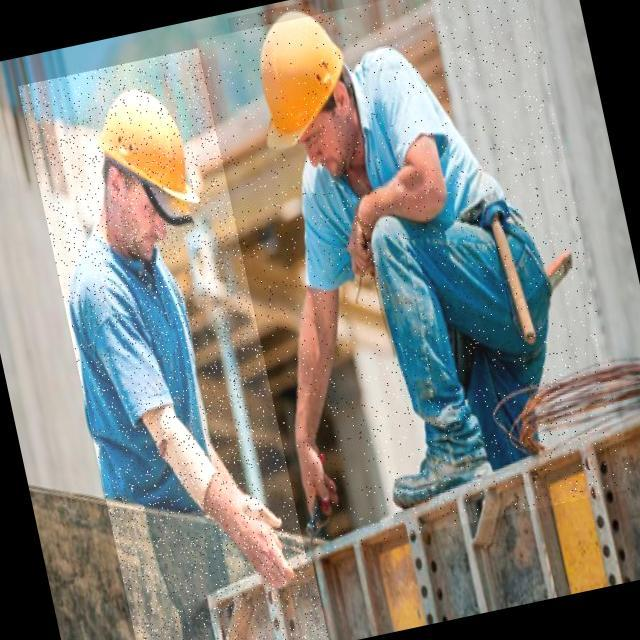Helmet: (78, 67, 225, 228), (247, 0, 371, 161)
Person: (234, 0, 594, 525), (61, 47, 305, 596)
Safety Boot: (369, 396, 504, 522)
bare-arms: (216, 481, 296, 595), (292, 438, 340, 535), (341, 210, 379, 293)
no-vest: (294, 39, 524, 298), (66, 234, 236, 516)
